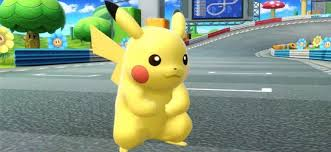pikachu: (85, 1, 194, 150)
